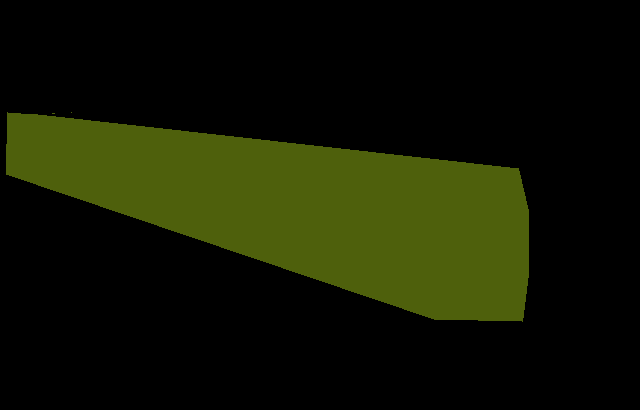Train: (6, 112, 528, 322)
